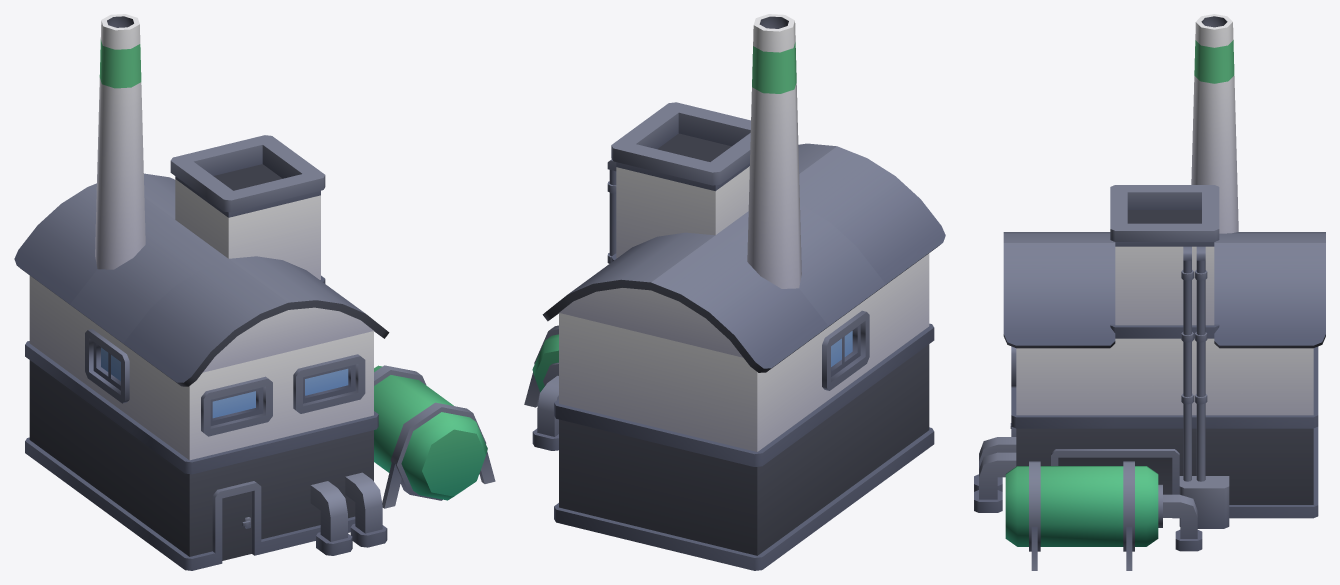
The model's file is chemistry_level1.glb.
The picture shows the model from 3 angles, left to right: view 1: azimuth 30°, elevation 25°; view 2: azimuth 150°, elevation 25°; view 3: azimuth 270°, elevation 25°; orthographic projection. The views are drawn at different scales.
Parts seen in each view (by area): view 1: building-n; view 2: building-n; view 3: building-n.
Boxes of the visible parts, x1=… form: building-n: x1=14, y1=14, x2=495, y2=570; building-n: x1=524, y1=14, x2=945, y2=570; building-n: x1=974, y1=14, x2=1325, y2=570.
Bounding box in the file's own units: 0.8449 × 1.13 × 0.8451.
Materials: 2 (2 with a texture image).
